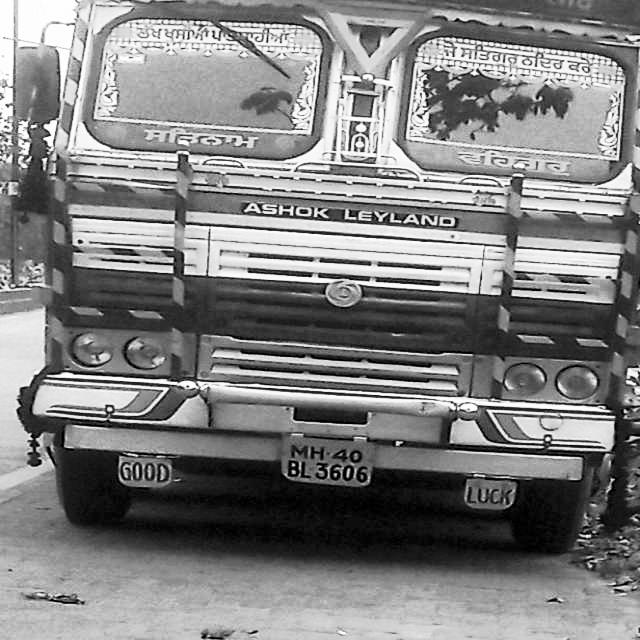HCV: (24, 4, 640, 581)
